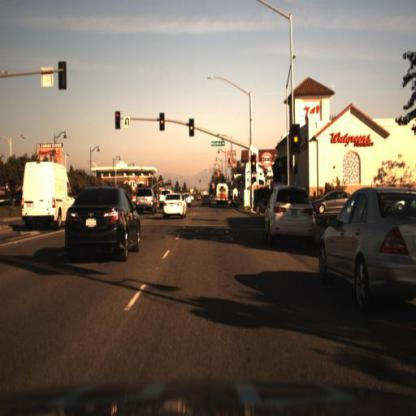car: (317, 187, 416, 307), (61, 185, 144, 273), (18, 157, 75, 230), (264, 182, 317, 252), (313, 189, 357, 214), (159, 194, 187, 220), (136, 189, 159, 217), (159, 189, 171, 212), (199, 192, 213, 210)
trafficLight-RedLeft: (114, 108, 122, 131)
trafficLight-Yellow: (291, 123, 301, 156), (291, 124, 302, 152), (186, 119, 198, 143), (252, 153, 259, 176), (159, 114, 165, 133), (250, 158, 257, 174)
truck: (20, 156, 75, 226), (216, 182, 231, 206)
